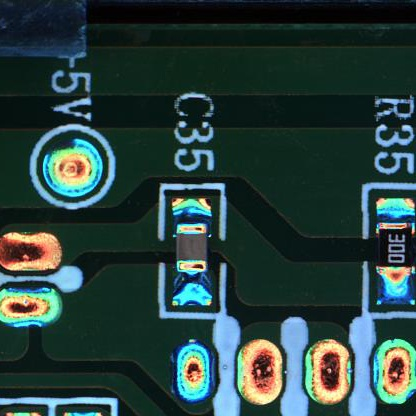spot: (32, 128, 111, 205), (297, 334, 356, 407), (230, 335, 286, 409), (165, 336, 217, 409)
